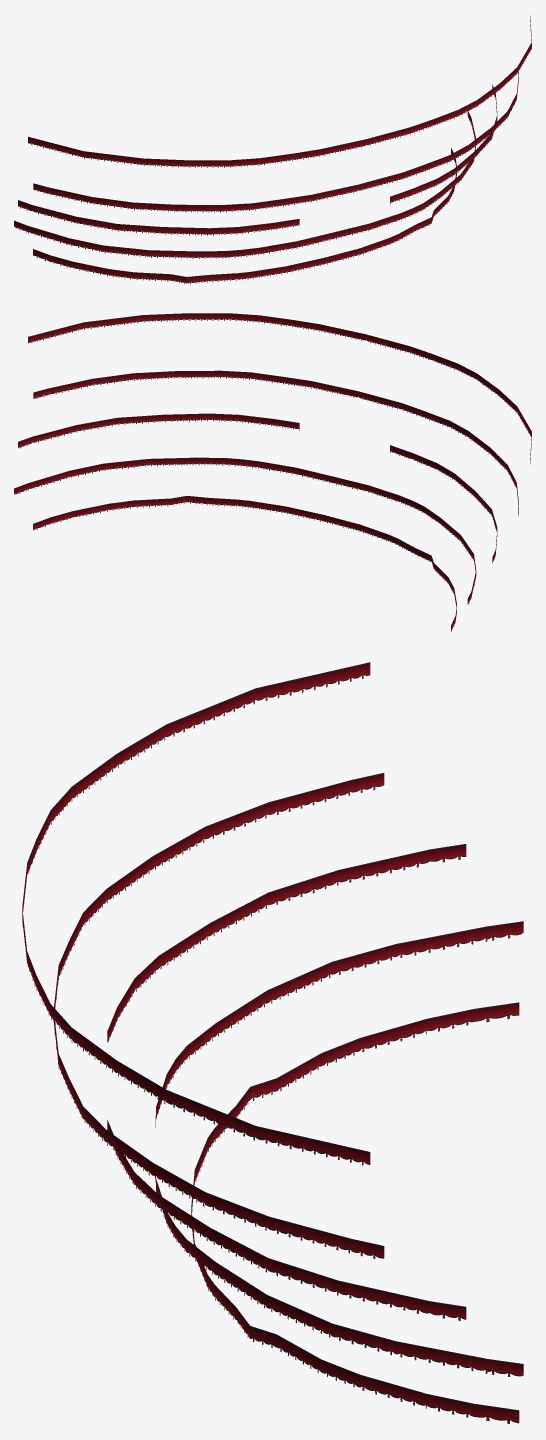
File: FBX_Theater_Courtain.fbx
3 views of the same model, one above another, from view 1: azimuth 30°, elevation 25°; view 2: azimuth 150°, elevation 25°; view 3: azimuth 270°, elevation 25° (orthographic). The views are drawn at different scales.
Visible parts, largest first — view 1: ultimo piano loggette.004; view 2: ultimo piano loggette.004; view 3: ultimo piano loggette.004.
Boxes of the visible parts, x1,y1,x2,y2 form: ultimo piano loggette.004: (14,15,531,284); ultimo piano loggette.004: (14,313,531,631); ultimo piano loggette.004: (22,662,523,1423).
Bounding box in the file's own units: 6825 × 2045 × 2952.
1 material, 1 textured.
